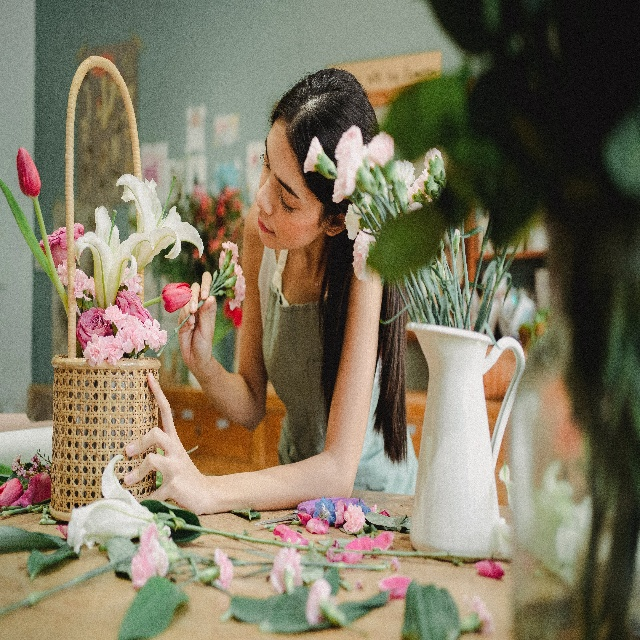Sin_guantes: (124, 372, 199, 514), (176, 271, 217, 371)
